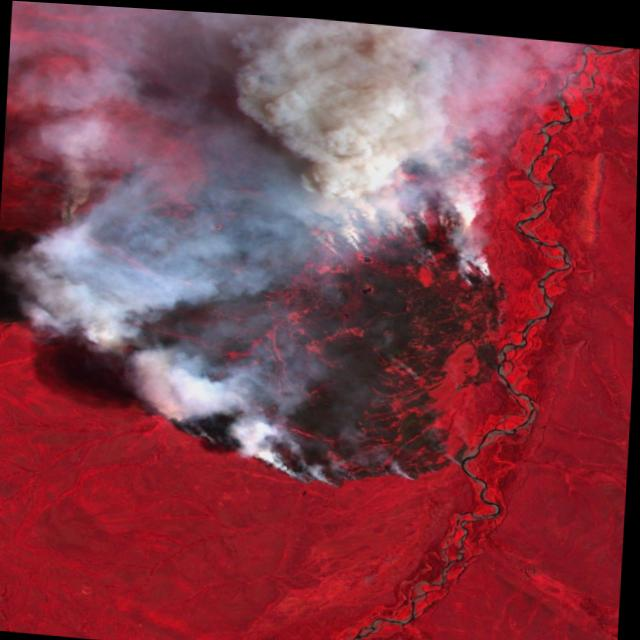fire: (40, 81, 536, 498)
